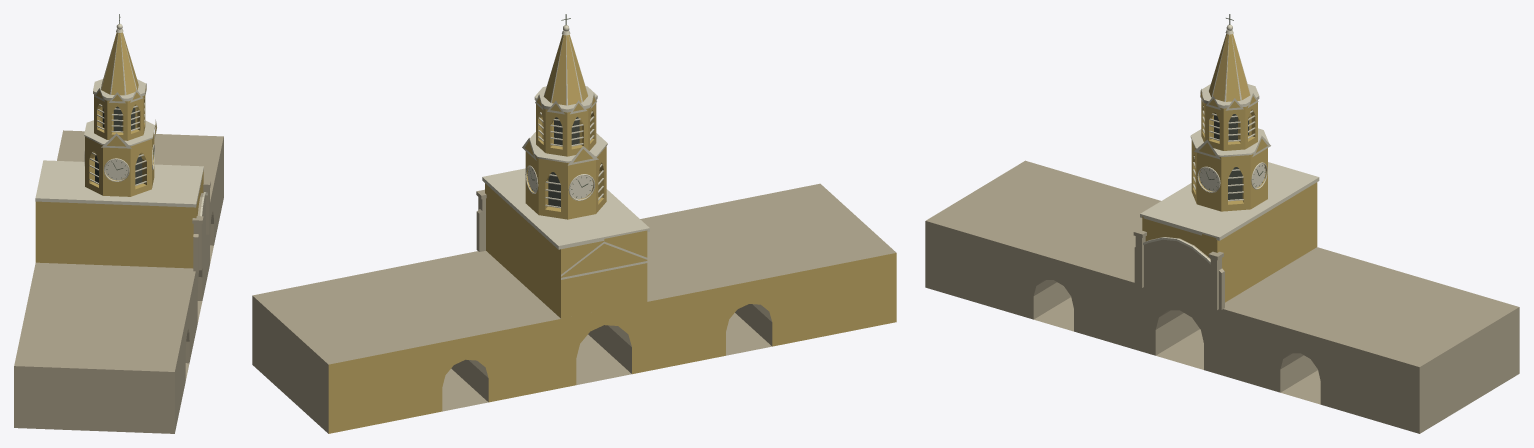
File: torre-reloj-cartagena-far.glb
The picture shows the model from 3 angles, left to right: view 1: azimuth 30°, elevation 25°; view 2: azimuth 150°, elevation 25°; view 3: azimuth 270°, elevation 25°; orthographic projection. The views are drawn at different scales.
Visible parts, largest first — view 1: torre-reloj-cartagena-0-stone, torre-reloj-cartagena-0-yellow, torre-reloj-cartagena-0-trim, torre-reloj-cartagena-0-shadow, torre-reloj-cartagena-0-clock; view 2: torre-reloj-cartagena-0-yellow, torre-reloj-cartagena-0-stone, torre-reloj-cartagena-0-trim, torre-reloj-cartagena-0-shadow, torre-reloj-cartagena-0-clock; view 3: torre-reloj-cartagena-0-stone, torre-reloj-cartagena-0-yellow, torre-reloj-cartagena-0-trim, torre-reloj-cartagena-0-shadow, torre-reloj-cartagena-0-clock.
Part boxes in pixels (box(x1,y1,x2,y2)): torre-reloj-cartagena-0-stone: box(14, 130, 223, 433); torre-reloj-cartagena-0-yellow: box(35, 32, 203, 268); torre-reloj-cartagena-0-trim: box(35, 24, 207, 216); torre-reloj-cartagena-0-shadow: box(95, 106, 142, 184); torre-reloj-cartagena-0-clock: box(105, 158, 152, 180); torre-reloj-cartagena-0-yellow: box(328, 34, 896, 433); torre-reloj-cartagena-0-stone: box(252, 183, 896, 433); torre-reloj-cartagena-0-trim: box(482, 25, 649, 279); torre-reloj-cartagena-0-shadow: box(548, 117, 579, 206); torre-reloj-cartagena-0-clock: box(527, 167, 593, 199); torre-reloj-cartagena-0-stone: box(925, 160, 1519, 433); torre-reloj-cartagena-0-yellow: box(1142, 34, 1317, 302); torre-reloj-cartagena-0-trim: box(1140, 24, 1319, 264); torre-reloj-cartagena-0-shadow: box(1214, 113, 1248, 199); torre-reloj-cartagena-0-clock: box(1199, 163, 1265, 191).
Size of the model in its own units: 43.78 by 31.5 by 53.21.
